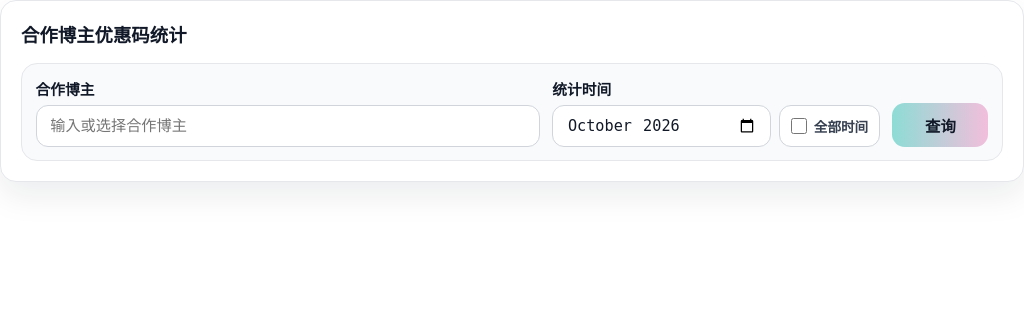
Test case: PromotionCampaignReportCard › shows all campaigns and filters them by contained text
Focus the dropdown labelled "合作博主" at (288, 126), box x1=36 y1=105 x2=540 y2=147
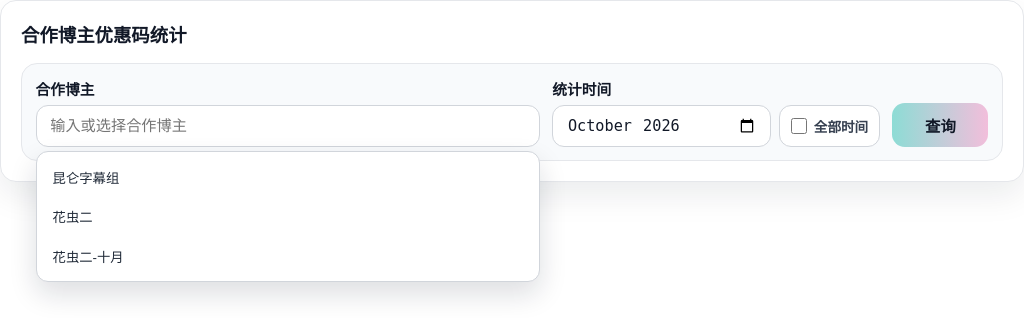
Expected: the option "昆仑字幕组" is shown, x1=41 y1=157 x2=534 y2=197
Expected: the option "花虫二" is shown, x1=41 y1=197 x2=534 y2=237
Expected: the option "花虫二-十月" is shown, x1=41 y1=237 x2=534 y2=276
Type "花虫" into the dropdown labelled "合作博主" at (288, 126), box x1=36 y1=105 x2=540 y2=147
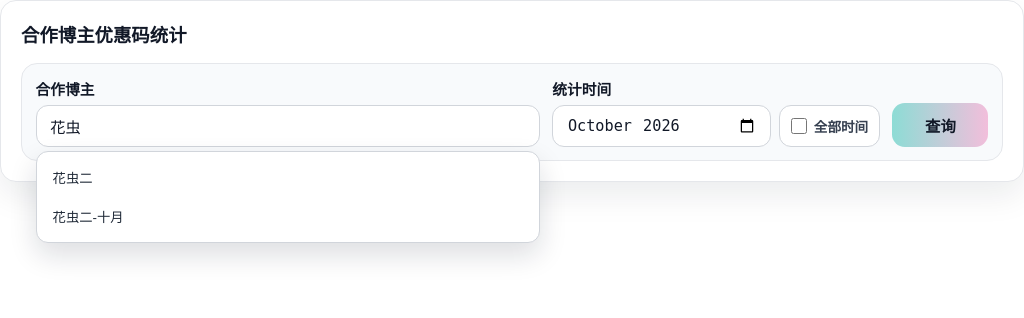
Expected: the option "昆仑字幕组" is gone
Click the option "花虫二-十月" at (88, 218), box x1=41 y1=197 x2=534 y2=237
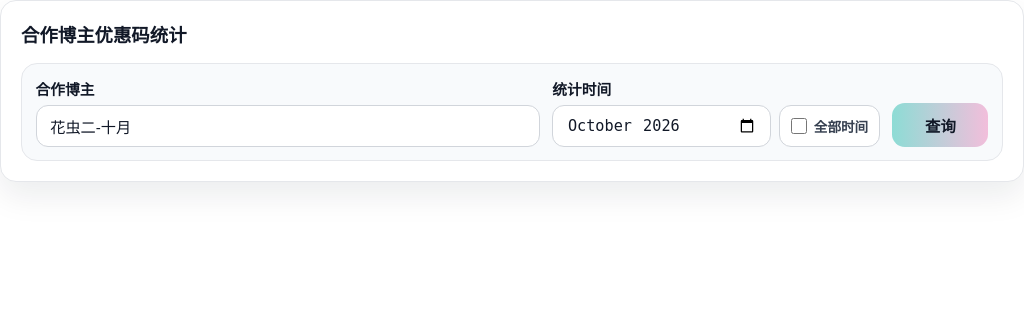
Expected: the dropdown labelled "合作博主" holds "花虫二-十月", x1=36 y1=105 x2=540 y2=147
Expected: the list is gone
